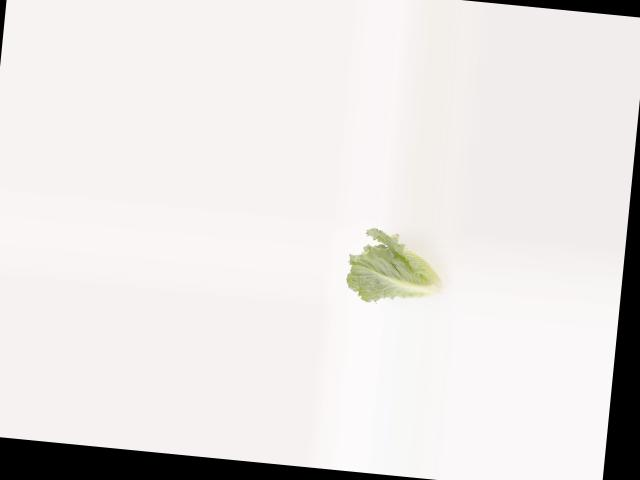lettuce: (341, 229, 456, 312)
